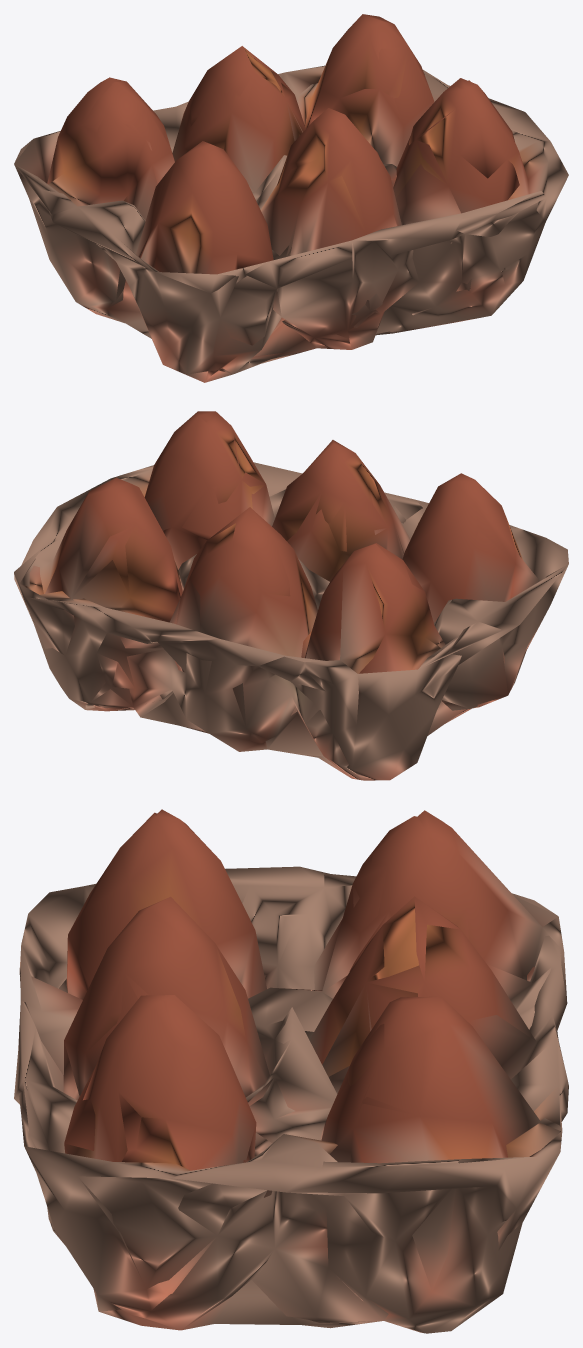
The model's file is gen3d-egg-tray-lod0.glb.
The picture shows the model from 3 angles, top to bottom: view 1: azimuth 30°, elevation 25°; view 2: azimuth 150°, elevation 25°; view 3: azimuth 270°, elevation 25°; orthographic projection. The views are drawn at different scales.
Parts seen in each view (by area): view 1: part_0; view 2: part_0; view 3: part_0.
Boxes of the visible parts, box(x1,y1,x2,y2) form: part_0: box(14, 14, 568, 382); part_0: box(14, 411, 568, 780); part_0: box(14, 809, 568, 1333).
Size of the model in its own units: 2.05 by 1 by 1.48.
